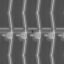dust: (31, 29, 34, 33)
